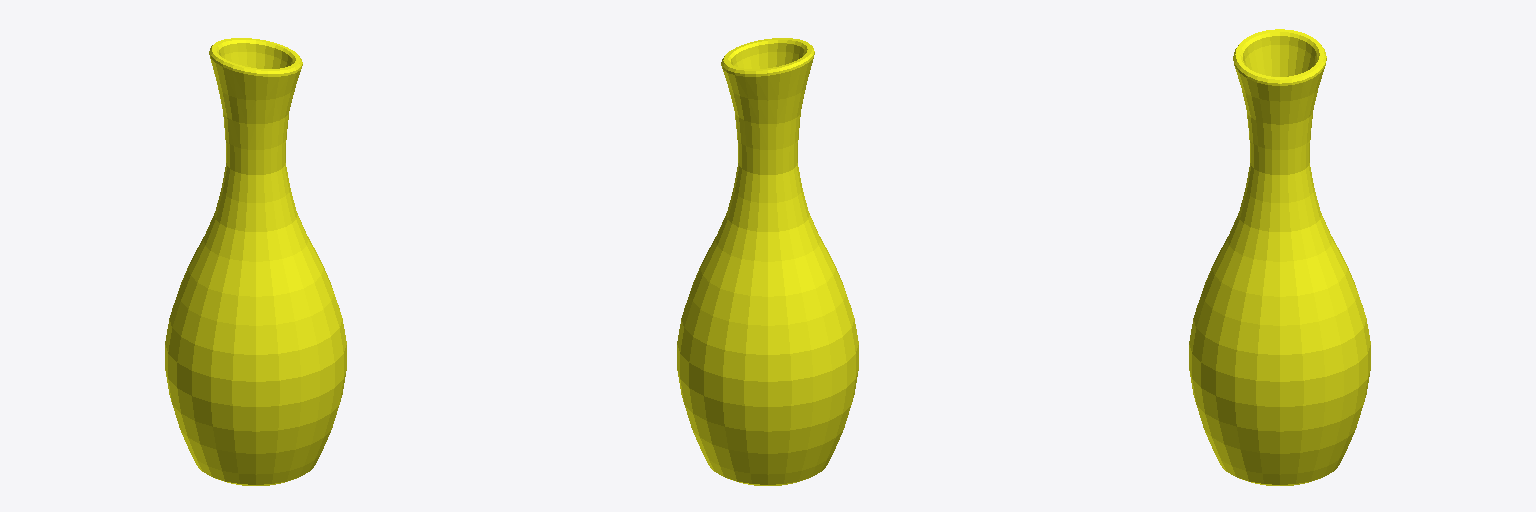
The model's file is vase.obj.
3 renders of one model, left to right at view 1: azimuth 30°, elevation 25°; view 2: azimuth 150°, elevation 25°; view 3: azimuth 270°, elevation 25°, orthographic.
Parts seen in each view (by area): view 1: SM_Vase_1; view 2: SM_Vase_1; view 3: SM_Vase_1.
Part boxes in pixels (x1,y1,x2,y2): SM_Vase_1: (165, 38, 346, 485); SM_Vase_1: (677, 38, 858, 485); SM_Vase_1: (1189, 29, 1370, 485).
Size of the model in its own units: 838 by 2117 by 838.